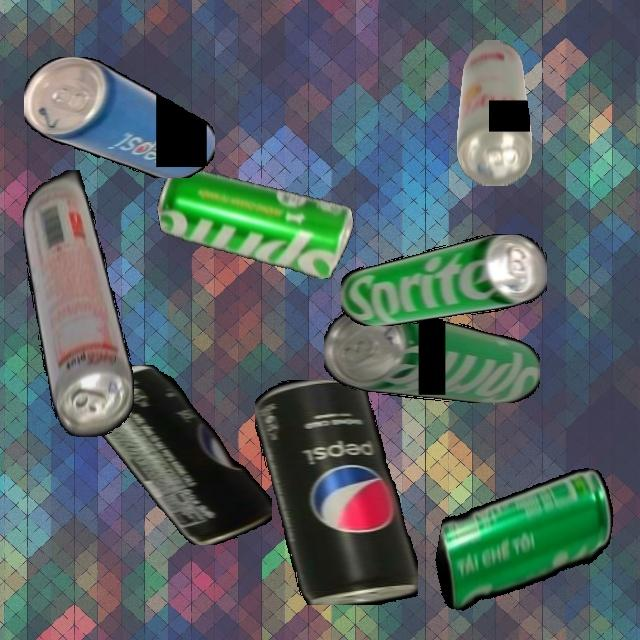debris: (255, 379, 418, 605), (428, 446, 621, 633), (151, 138, 362, 305), (79, 364, 272, 545), (22, 169, 134, 437), (24, 56, 215, 178), (324, 307, 540, 403), (340, 234, 547, 326), (456, 39, 532, 186)
